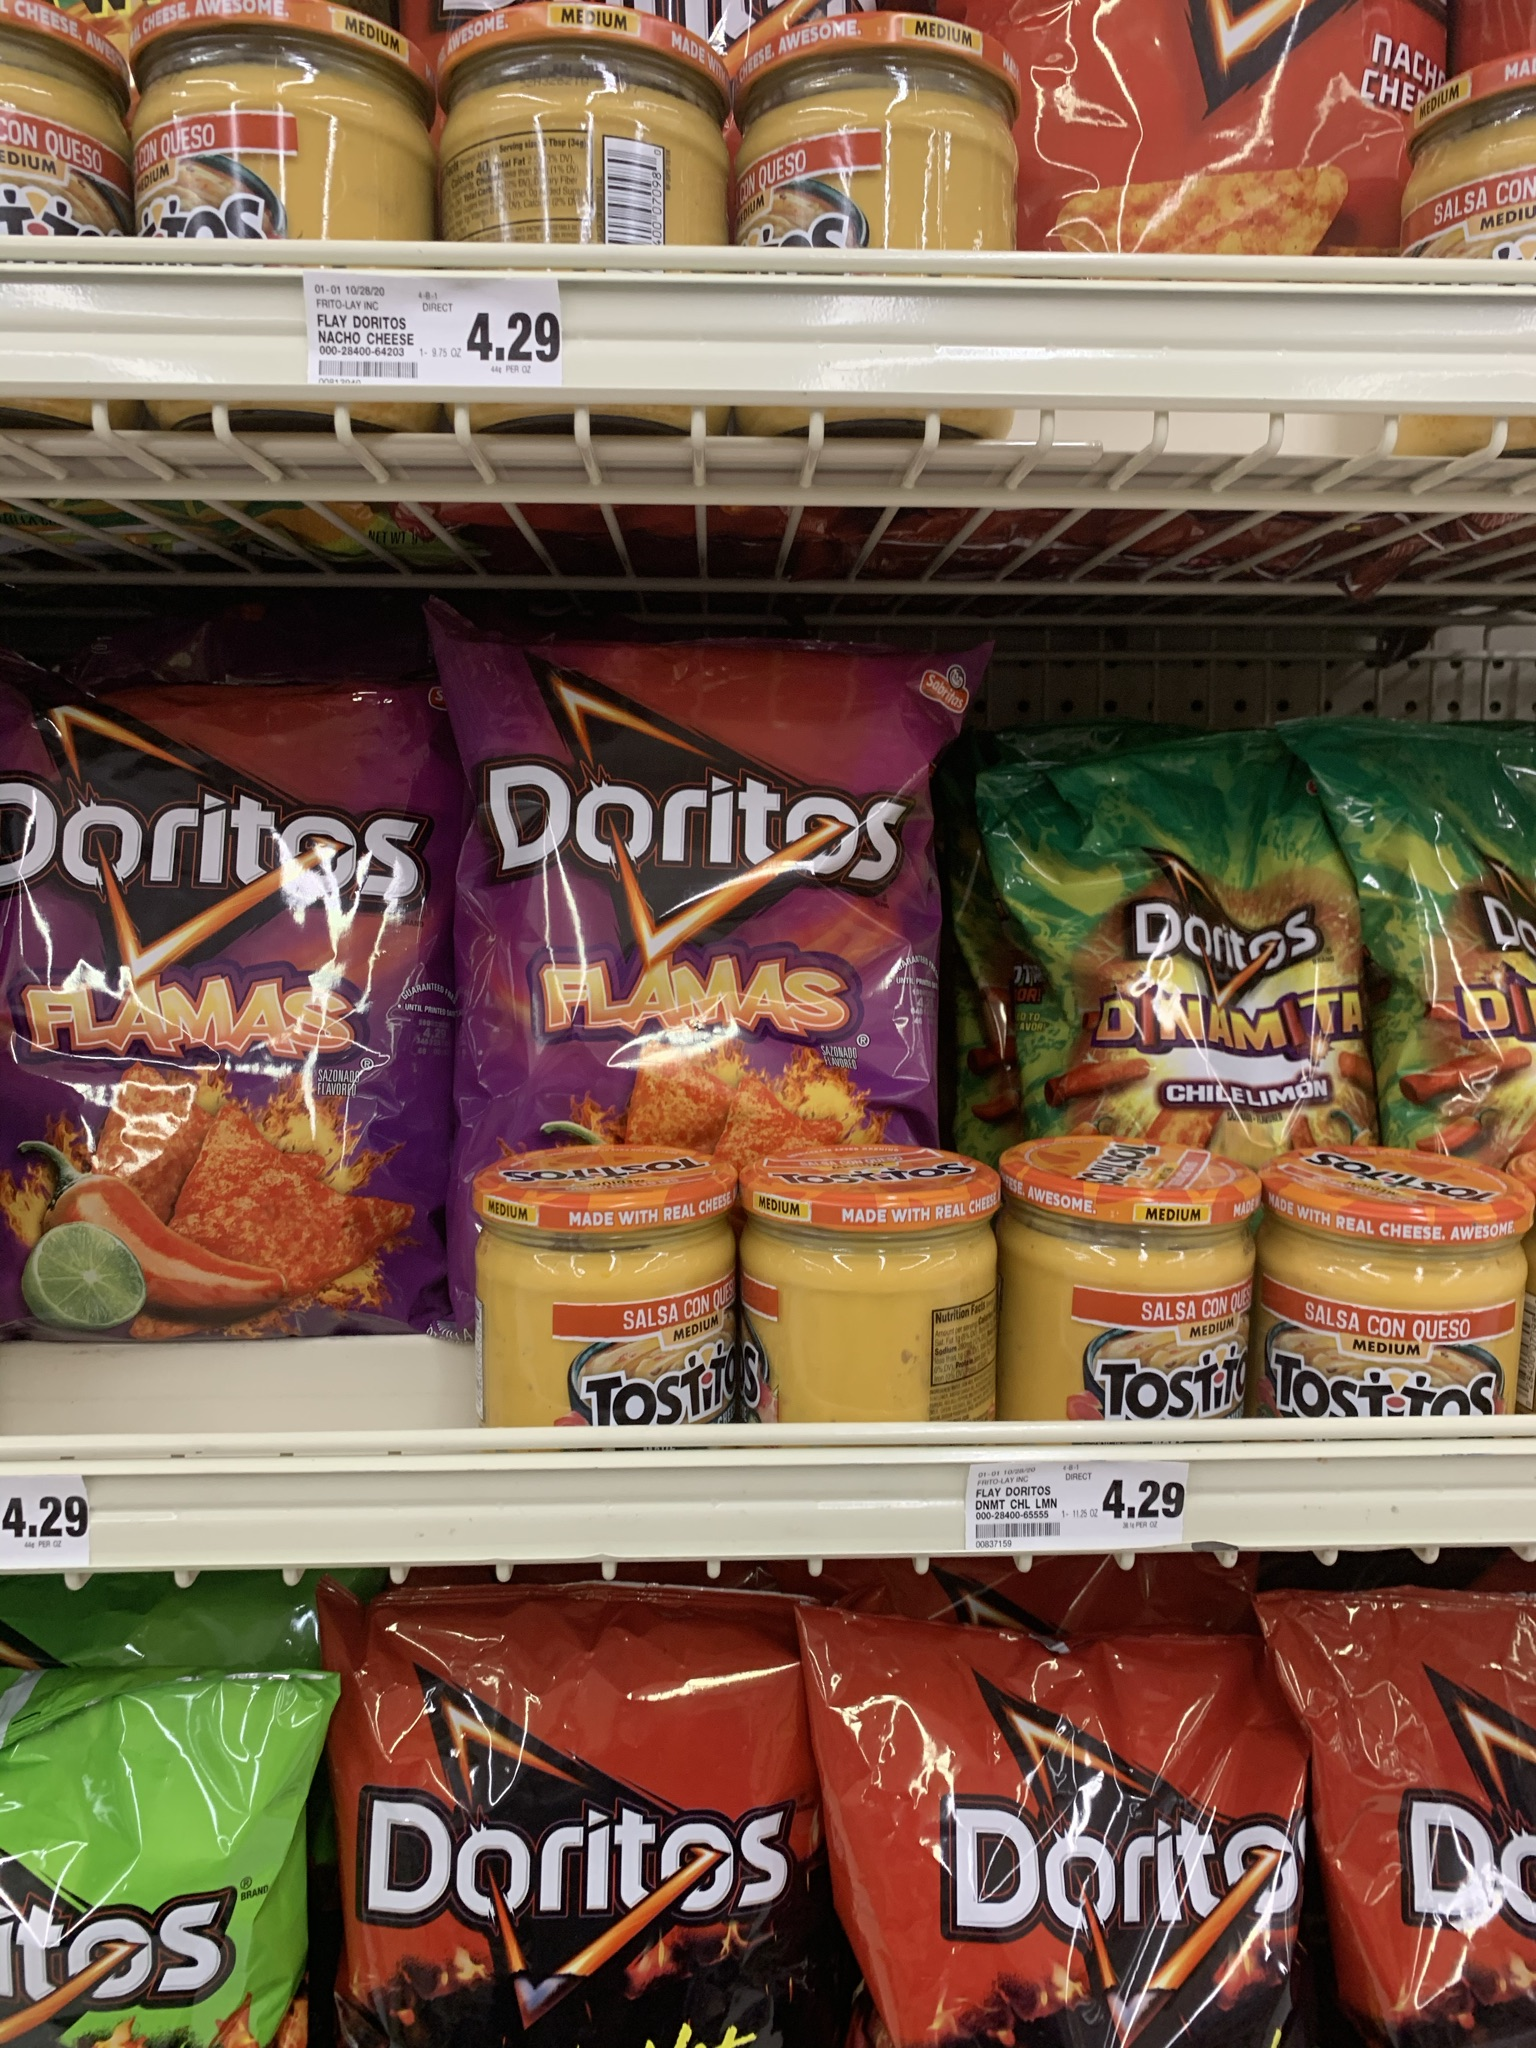Chips: (2, 660, 445, 1342), (436, 618, 933, 1151), (319, 1584, 795, 2048), (816, 1608, 1312, 2042), (975, 718, 1373, 1134)
